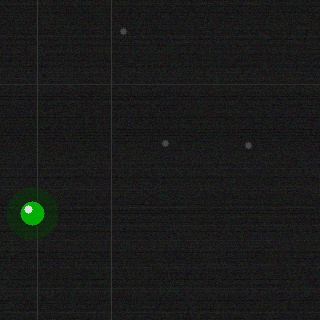green_normal: (18, 199, 46, 227)
